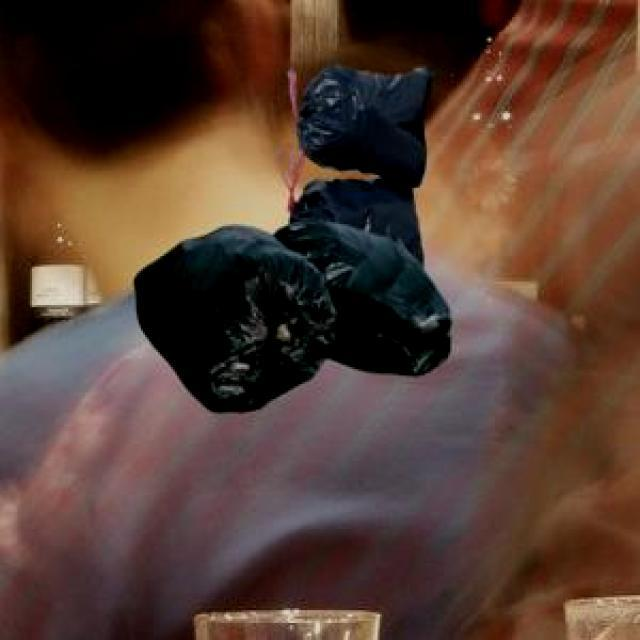Trashbag: (154, 212, 306, 389), (300, 198, 462, 358), (293, 68, 472, 180)
